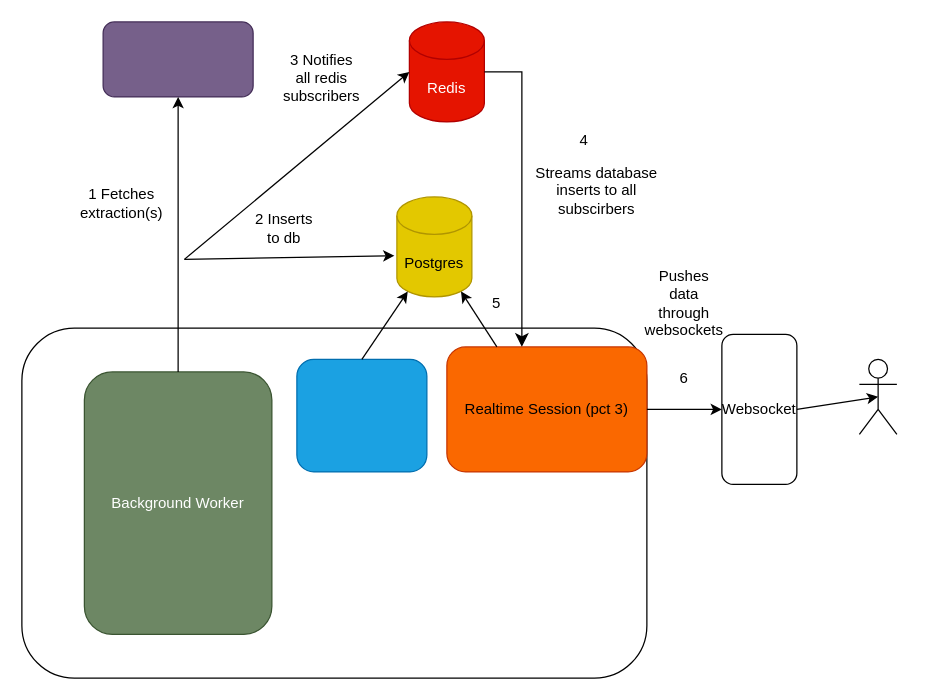
Image size: 929x700. Some labels were removed from this diagram. The centre of each missing label's shape, as x and y in pixels:
"HTTP Endpoints" belongs at point (361, 415).
"UI Client" belongs at point (877, 396).
"Url" belongs at point (177, 59).
